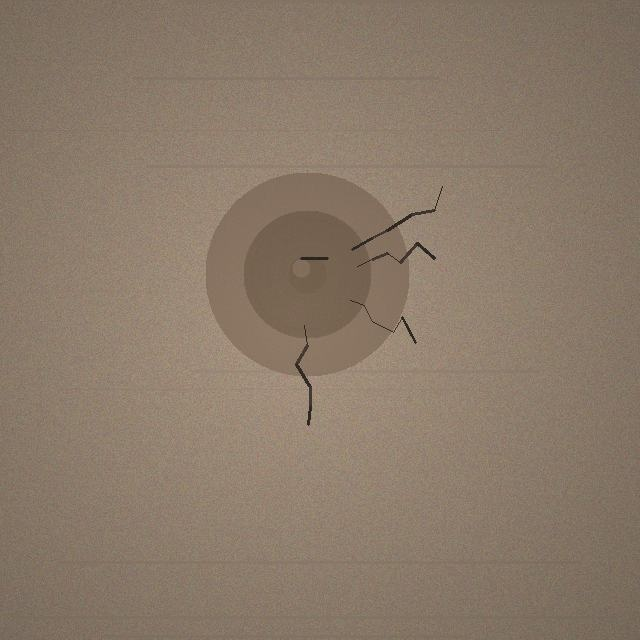crack: (205, 172, 409, 376)
